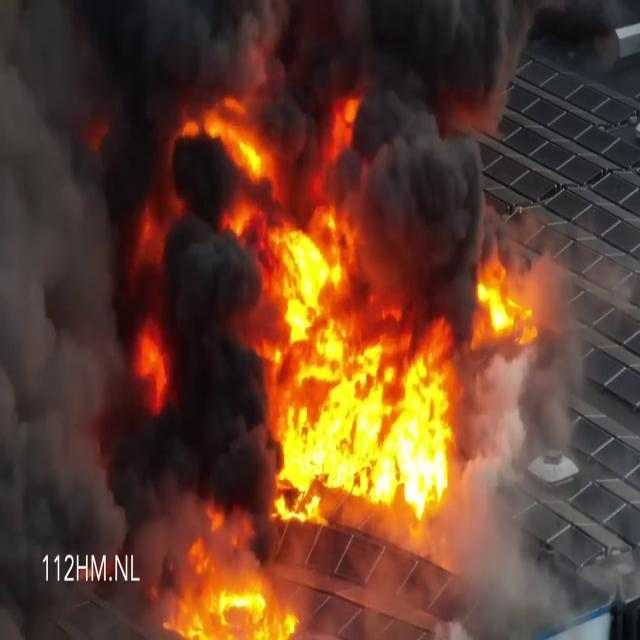Fire: (254, 182, 536, 520), (161, 517, 271, 638)
Smoke: (0, 2, 258, 504), (273, 0, 507, 205)
